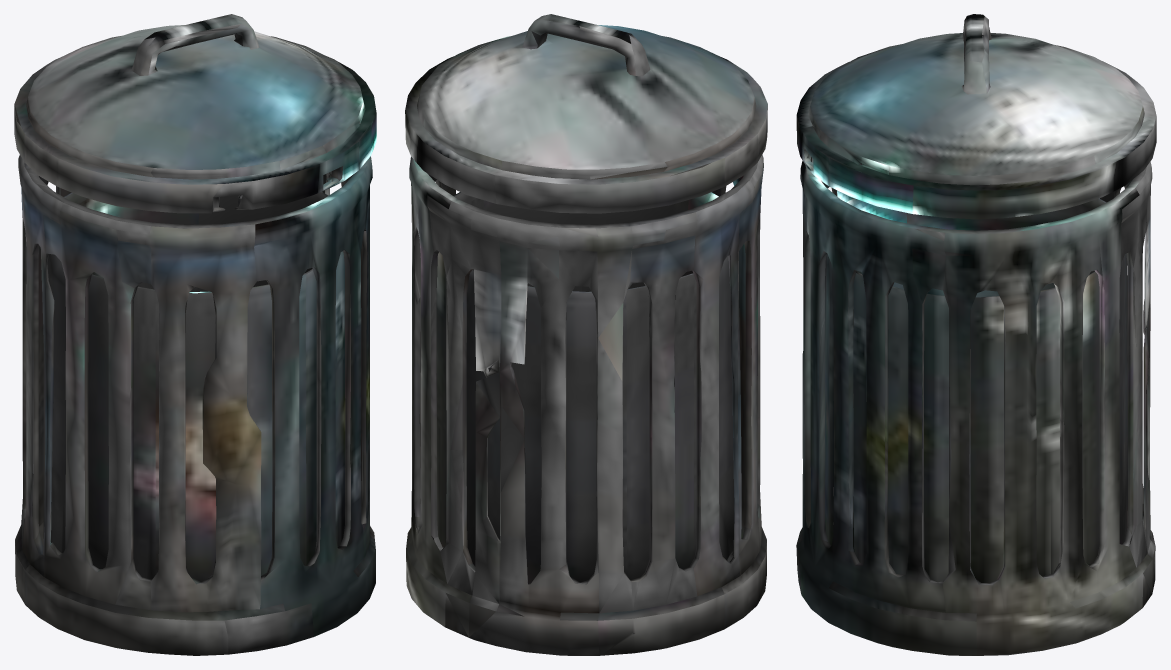
File: preview.glb
3 views of the same model, side by side, from view 1: azimuth 30°, elevation 25°; view 2: azimuth 150°, elevation 25°; view 3: azimuth 270°, elevation 25° (orthographic).
Parts seen in each view (by area): view 1: SM_SM_AI_garbage_can; view 2: SM_SM_AI_garbage_can; view 3: SM_SM_AI_garbage_can.
Boxes of the visible parts, left/top/right/bottom form: SM_SM_AI_garbage_can: left=14, top=14, right=376, bottom=655; SM_SM_AI_garbage_can: left=405, top=14, right=767, bottom=655; SM_SM_AI_garbage_can: left=796, top=14, right=1156, bottom=655.
Bounding box in the file's own units: 0.5904 × 1 × 0.5927.
Materials: 1 (1 with a texture image).
